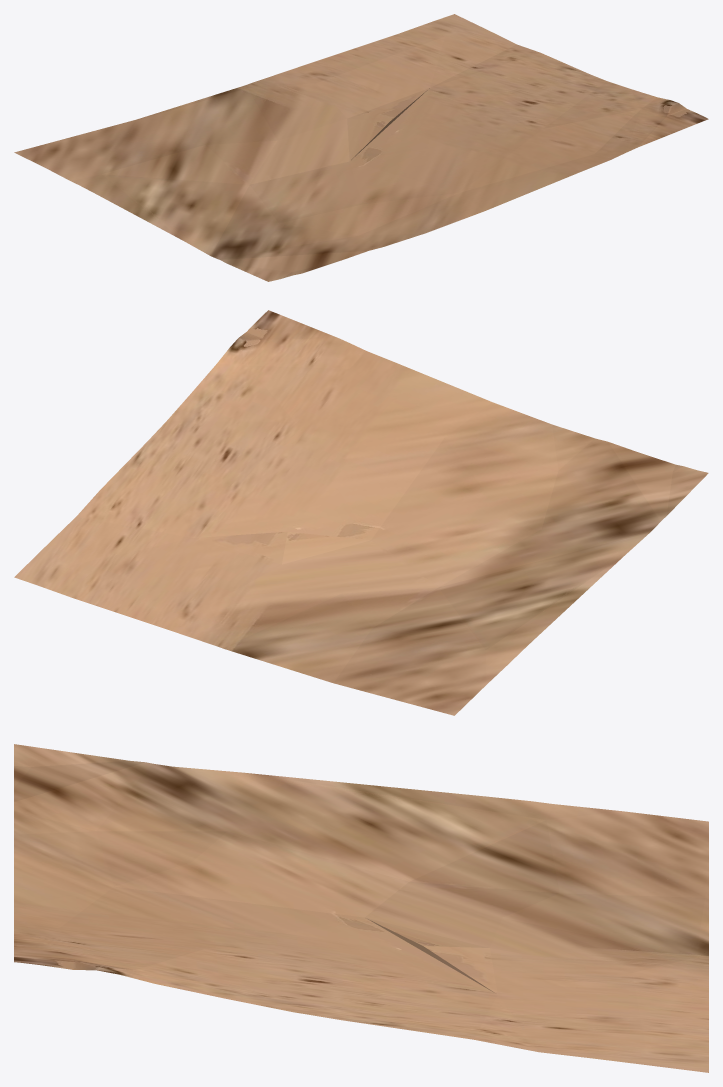
3 views of the same model, one above another, from view 1: azimuth 30°, elevation 25°; view 2: azimuth 150°, elevation 25°; view 3: azimuth 270°, elevation 25° (orthographic). The views are drawn at different scales.
Bounding box in the file's own units: 1.04 × 0.254 × 1.04.
Materials: 3 (3 with a texture image).
